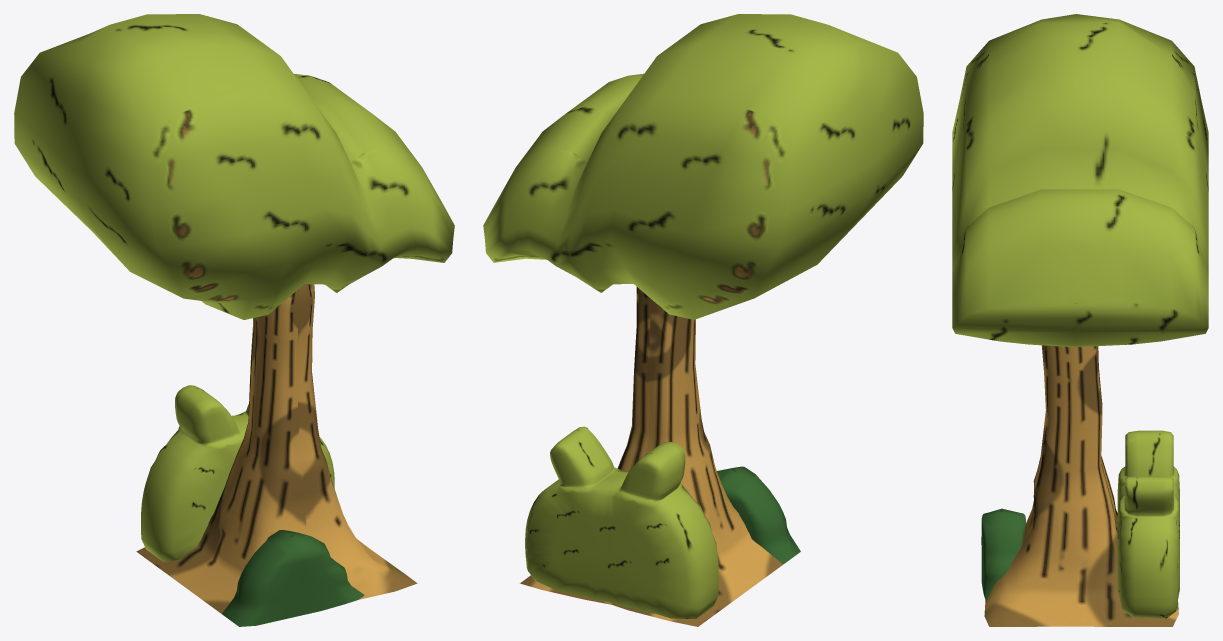
The model's file is albero_chitarra_v1.0.fbx.
3 views of the same model, side by side, from view 1: azimuth 30°, elevation 25°; view 2: azimuth 150°, elevation 25°; view 3: azimuth 270°, elevation 25° (orthographic). The views are drawn at different scales.
Visible parts, largest first — view 1: albedro_chitarra; view 2: albedro_chitarra; view 3: albedro_chitarra.
Boxes of the visible parts, box(x1,y1,x2,y2) form: albedro_chitarra: box(14, 14, 454, 626); albedro_chitarra: box(483, 14, 923, 626); albedro_chitarra: box(952, 14, 1208, 626).
Bounding box in the file's own units: 92.59 × 152 × 69.75.
